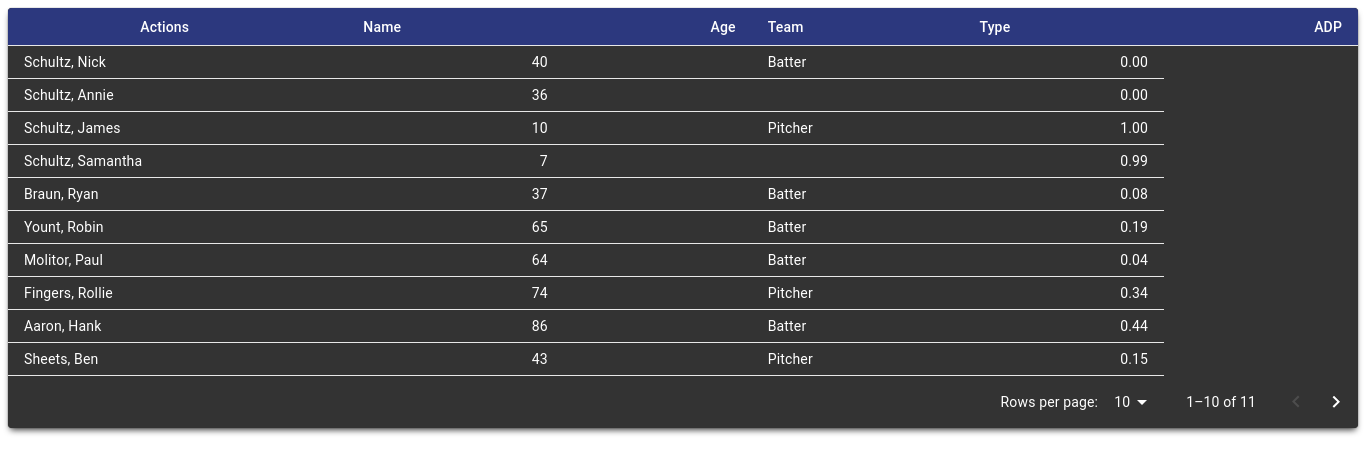
ParentTable › should sort in › ascending order
Click the button "Name" at x=382, y=27, box [363, 19, 401, 35]
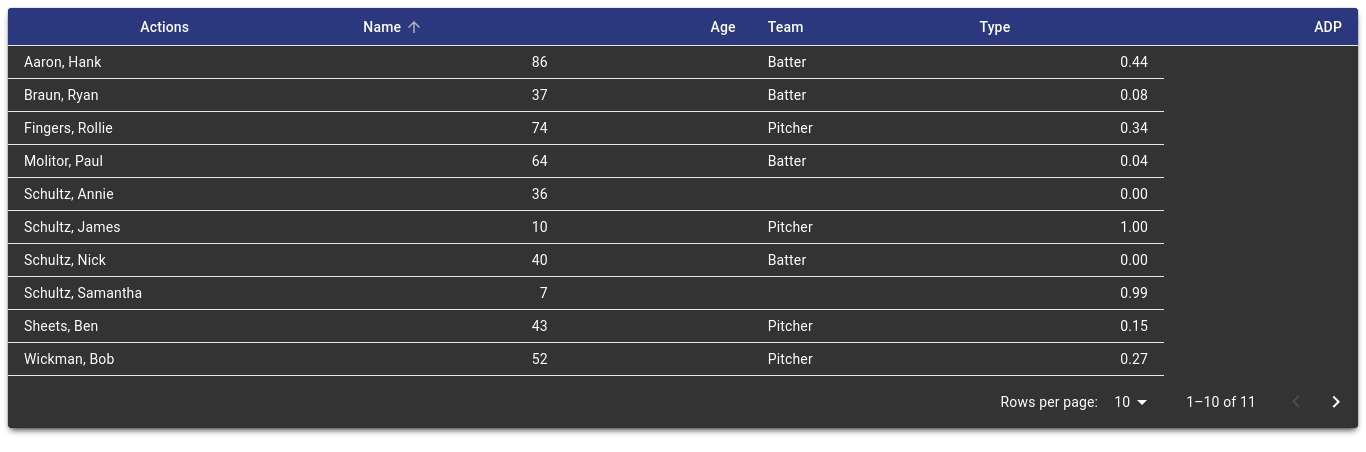
Expected: the row "Aaron, Hank 86 Batter 0.44" is shown, [8, 46, 1358, 79]
Expected: the row "Wickman, Bob 52 Pitcher 0.27" is shown, [8, 343, 1358, 376]
